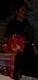boots: (1, 1, 1, 1)
hard-hat: (0, 0, 19, 31)
ppe-suit: (0, 0, 1, 2)
